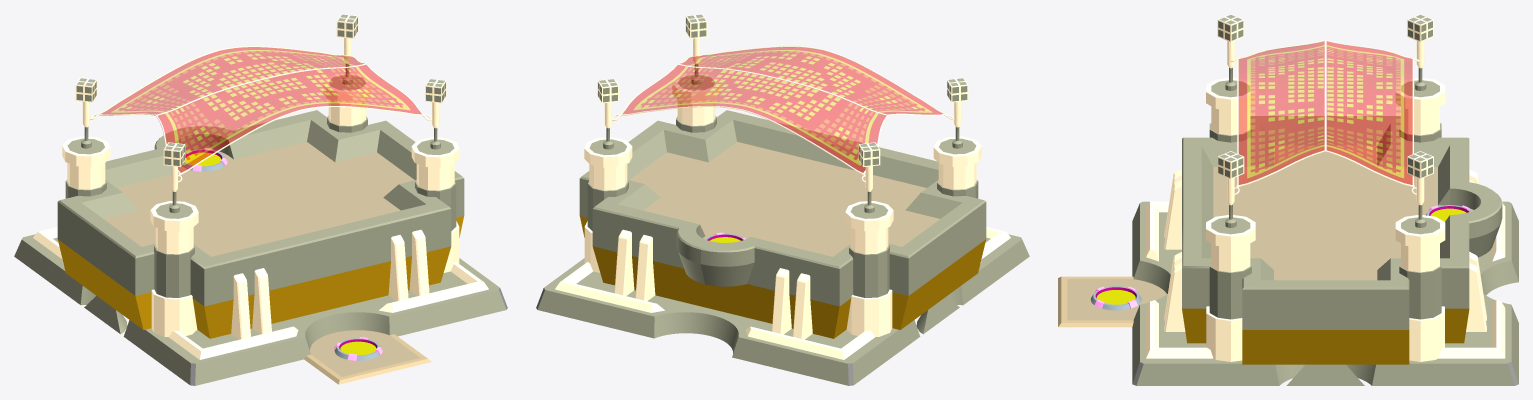
The model's file is aarena_DC_safe_area.fbx.
The picture shows the model from 3 angles, left to right: view 1: azimuth 30°, elevation 25°; view 2: azimuth 150°, elevation 25°; view 3: azimuth 270°, elevation 25°; orthographic projection. The views are drawn at different scales.
Visible parts, largest first — view 1: safe_zone_new, canopy, aarena_DC_safe_area, columns_safe, ridges, entry_platform, trim_border, pads_teleport, poles, canopy_rims, safe_halfcircle_fillers; view 2: safe_zone_new, canopy, aarena_DC_safe_area, columns_safe, ridges, trim_border, poles, canopy_rims, safe_halfcircle_fillers; view 3: safe_zone_new, canopy, columns_safe, aarena_DC_safe_area, trim_border, entry_platform, ridges, faces (×4), poles, pads_teleport, safe_halfcircle_fillers, canopy_rims.
Part boxes in pixels (x1,y1,x2,y2): safe_zone_new: [57, 110, 464, 338]; canopy: [101, 47, 420, 172]; aarena_DC_safe_area: [14, 234, 507, 385]; columns_safe: [62, 72, 459, 336]; ridges: [231, 229, 429, 339]; entry_platform: [304, 330, 431, 384]; trim_border: [33, 227, 488, 359]; pads_teleport: [182, 148, 382, 360]; poles: [81, 38, 440, 213]; canopy_rims: [99, 46, 422, 173]; safe_halfcircle_fillers: [84, 296, 127, 334]; safe_zone_new: [579, 110, 986, 338]; canopy: [623, 47, 942, 172]; aarena_DC_safe_area: [536, 234, 1029, 385]; columns_safe: [584, 72, 981, 336]; ridges: [614, 229, 812, 339]; trim_border: [555, 227, 1010, 359]; poles: [603, 38, 962, 213]; canopy_rims: [621, 46, 944, 173]; safe_halfcircle_fillers: [916, 296, 959, 334]; safe_zone_new: [1182, 116, 1502, 364]; canopy: [1239, 41, 1412, 184]; columns_safe: [1206, 78, 1445, 361]; aarena_DC_safe_area: [1132, 201, 1518, 385]; trim_border: [1146, 201, 1505, 358]; entry_platform: [1058, 276, 1166, 327]; ridges: [1164, 169, 1486, 331]; faces (×4): [1218, 14, 1432, 177]; poles: [1225, 41, 1426, 227]; pads_teleport: [1090, 205, 1470, 310]; safe_halfcircle_fillers: [1286, 364, 1364, 385]; canopy_rims: [1237, 40, 1413, 186].
Bounding box in the file's own units: 11.3 × 6.66 × 12.75.
11 materials, 1 textured.
